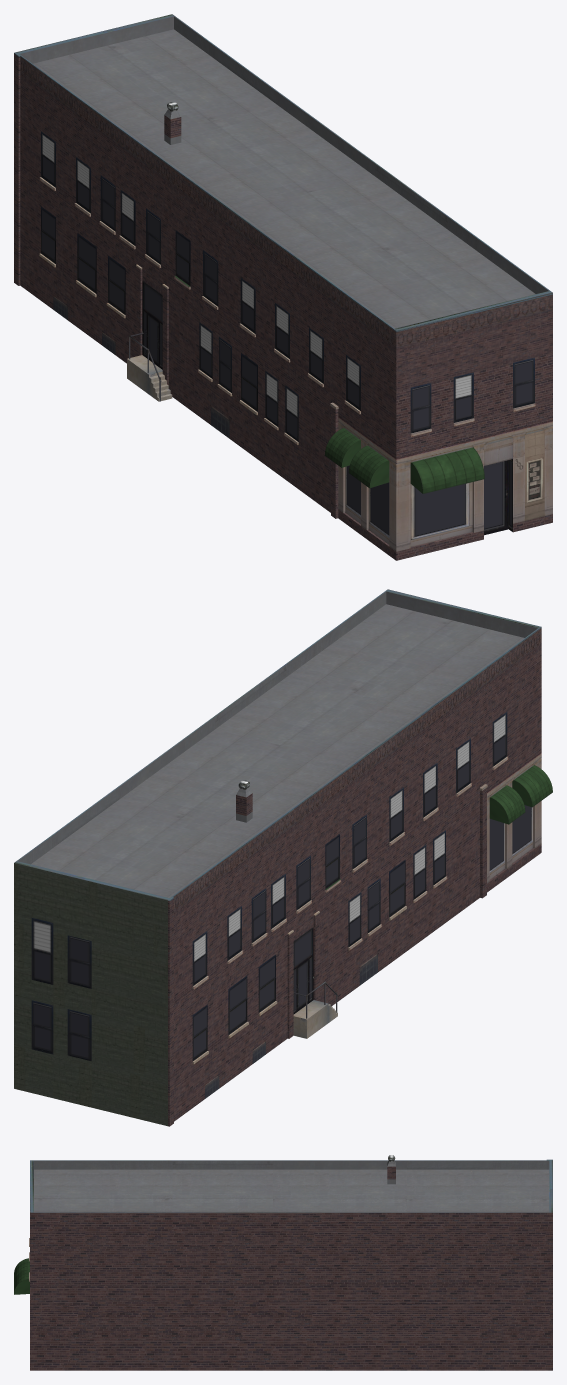
Rendered from adamgrocery.obj.
The picture shows the model from 3 angles, top to bottom: view 1: azimuth 30°, elevation 25°; view 2: azimuth 150°, elevation 25°; view 3: azimuth 270°, elevation 25°; orthographic projection. The views are drawn at different scales.
Parts seen in each view (by area): view 1: Cube; view 2: Cube; view 3: Cube.
Part boxes in pixels (<box>): Cube: <box>14,14,552,560</box>; Cube: <box>14,589,552,1126</box>; Cube: <box>14,1155,552,1370</box>.
Size of the model in its own units: 800 by 1108 by 3092.
Materials: 1 (1 with a texture image).
